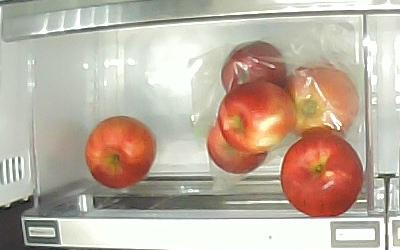apple: (281, 135, 365, 218), (219, 82, 297, 154), (84, 115, 156, 189), (207, 122, 269, 174)
apple_vinyl: (285, 67, 360, 138), (220, 41, 288, 96)
